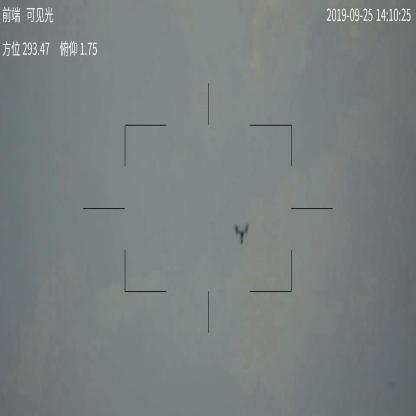uav: (234, 221, 249, 245)
